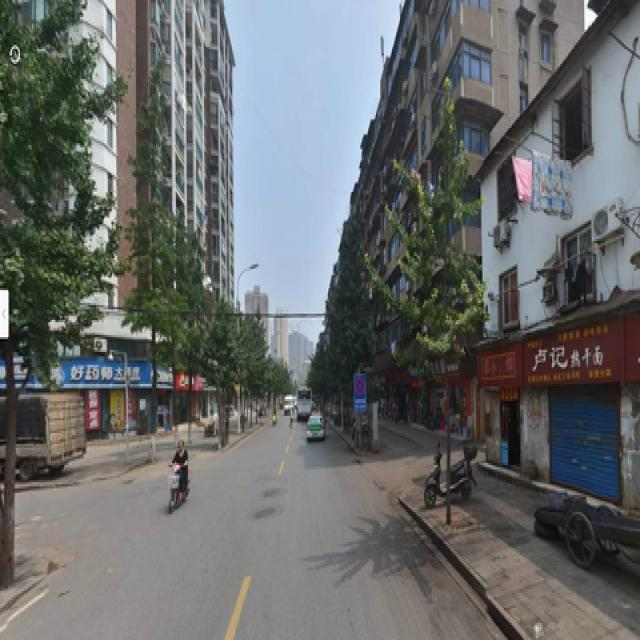gink: (404, 118, 480, 500), (139, 73, 180, 450)
